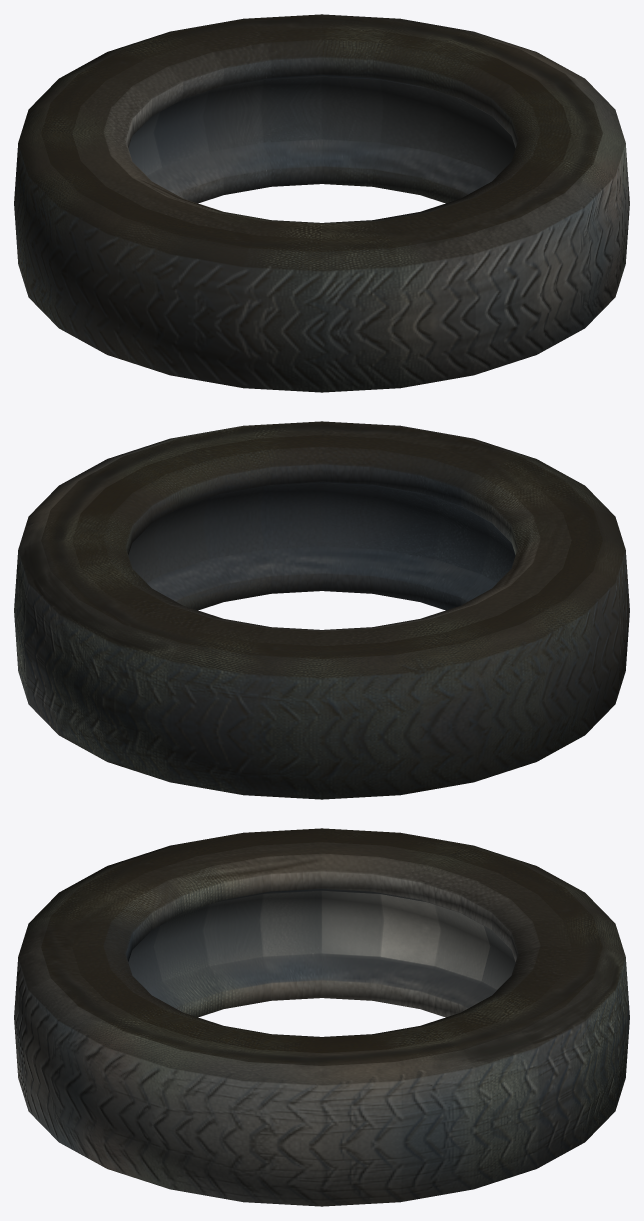
Rendered from покрышка.fbx.
3 renders of one model, top to bottom at view 1: azimuth 30°, elevation 25°; view 2: azimuth 150°, elevation 25°; view 3: azimuth 270°, elevation 25°, orthographic.
Visible parts, largest first — view 1: Тор; view 2: Тор; view 3: Тор.
Part boxes in pixels (x1,y1,x2,y2): Тор: (14,14,629,392); Тор: (14,421,629,799); Тор: (14,828,629,1206).
Size of the model in its own units: 247 by 63.15 by 247.
